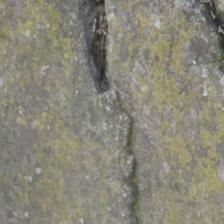Crack: (0, 0, 86, 103), (36, 16, 81, 127)
